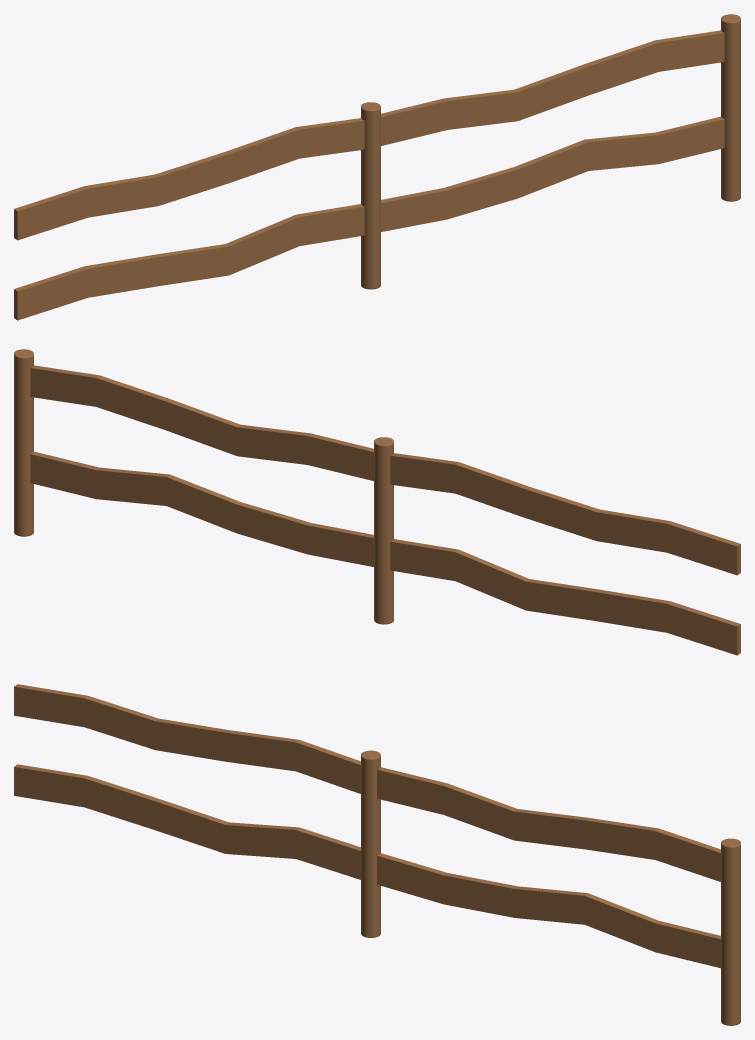
File: fence.fbx
The picture shows the model from 3 angles, top to bottom: view 1: azimuth 30°, elevation 25°; view 2: azimuth 150°, elevation 25°; view 3: azimuth 330°, elevation 25°; orthographic projection.
Visible parts, largest first — view 1: Wooden Board Fence.001; view 2: Wooden Board Fence.001; view 3: Wooden Board Fence.001.
Boxes of the visible parts, <box> form: Wooden Board Fence.001: <box>14,14,740,320</box>; Wooden Board Fence.001: <box>14,349,740,655</box>; Wooden Board Fence.001: <box>14,684,740,1025</box>.
Size of the model in its own units: 328 by 77.48 by 7.8.
